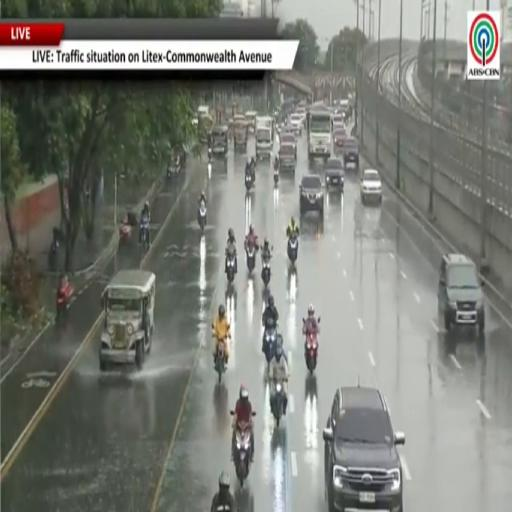car: (323, 386, 405, 511), (438, 253, 485, 333), (300, 174, 324, 217), (360, 169, 382, 204), (324, 158, 345, 191), (279, 143, 296, 172), (344, 137, 359, 169), (280, 132, 296, 161), (290, 113, 304, 136), (334, 127, 346, 152)
jeepney: (99, 270, 155, 371), (233, 115, 248, 152), (212, 125, 228, 155), (199, 116, 213, 143), (245, 111, 257, 134), (197, 105, 209, 117)
motorcycle: (233, 423, 251, 487), (271, 381, 285, 426), (56, 282, 73, 319), (263, 318, 276, 363), (305, 330, 318, 374), (216, 341, 225, 382), (287, 234, 298, 264), (48, 240, 58, 271), (226, 254, 236, 284), (119, 221, 132, 244), (140, 218, 149, 251), (246, 245, 256, 274), (261, 260, 270, 286), (198, 202, 206, 231), (245, 172, 253, 191), (274, 169, 279, 185), (207, 162, 211, 179), (208, 147, 212, 163)
truck: (307, 108, 332, 163), (255, 117, 273, 158)
